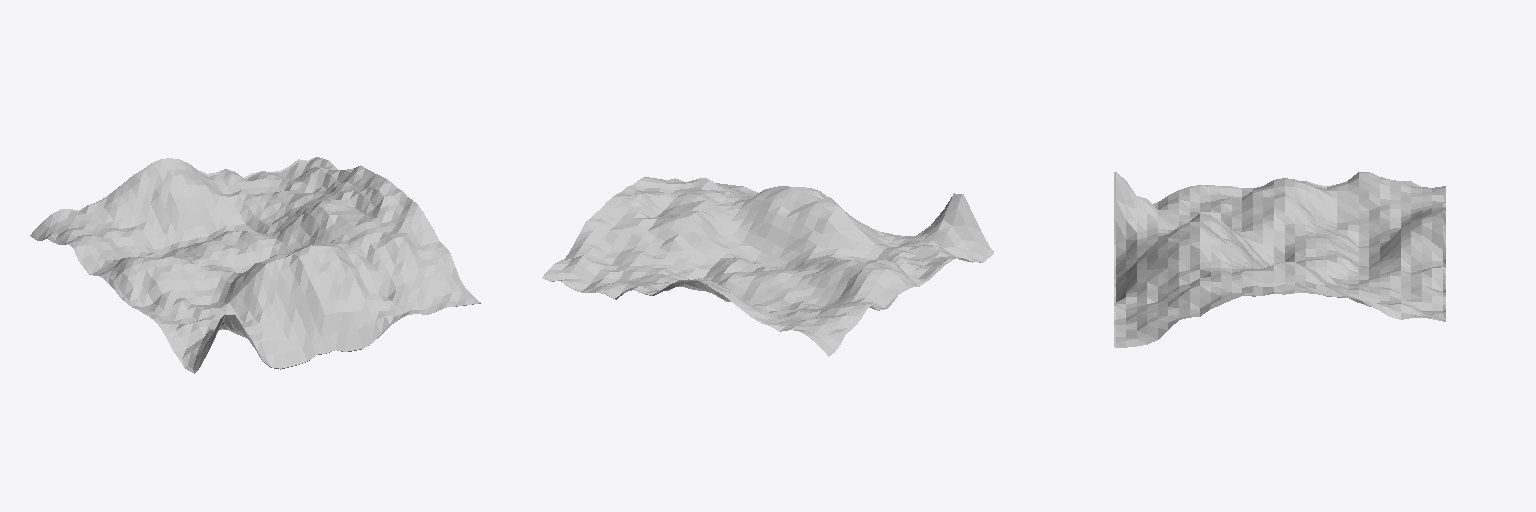
File: heightmap.023.obj
The picture shows the model from 3 angles: view 1: azimuth 30°, elevation 25°; view 2: azimuth 150°, elevation 25°; view 3: azimuth 270°, elevation 25°; orthographic projection.
Visible parts, largest first — view 1: heightmap.023_Plane.023; view 2: heightmap.023_Plane.023; view 3: heightmap.023_Plane.023.
Part boxes in pixels (bbox=[...]): heightmap.023_Plane.023: bbox=[30, 157, 480, 373]; heightmap.023_Plane.023: bbox=[542, 177, 993, 356]; heightmap.023_Plane.023: bbox=[1114, 172, 1445, 347].
Bounding box in the file's own units: 32 × 8.4 × 32.